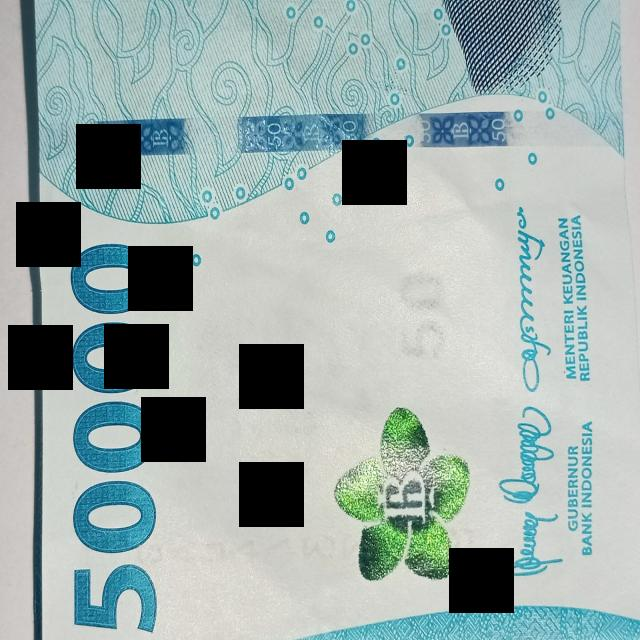lima puluh ribu rupiah: (24, 0, 640, 637)
